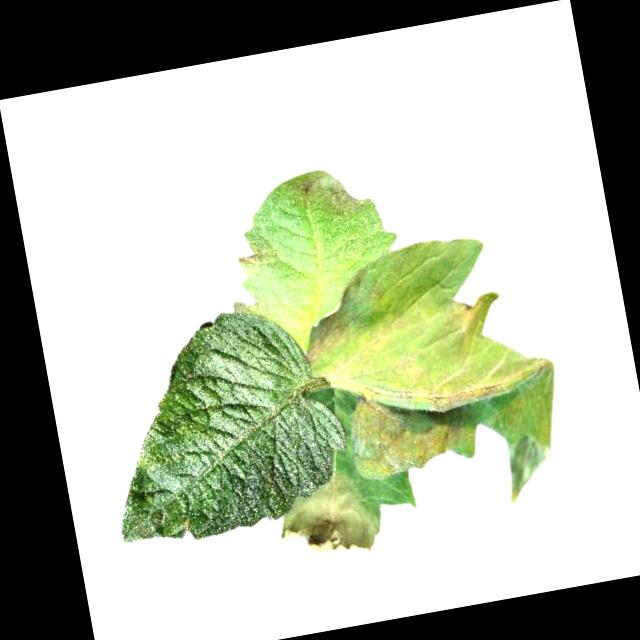Late_blight: (343, 375, 475, 483), (269, 467, 381, 570), (295, 275, 373, 367), (294, 161, 374, 230), (445, 294, 485, 335), (236, 250, 266, 271)
